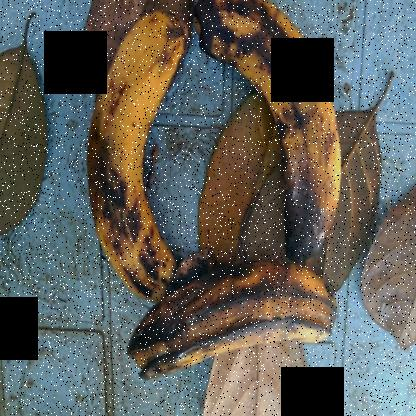overripe: (76, 1, 180, 297)
rotten: (198, 1, 354, 253), (113, 255, 354, 393)
